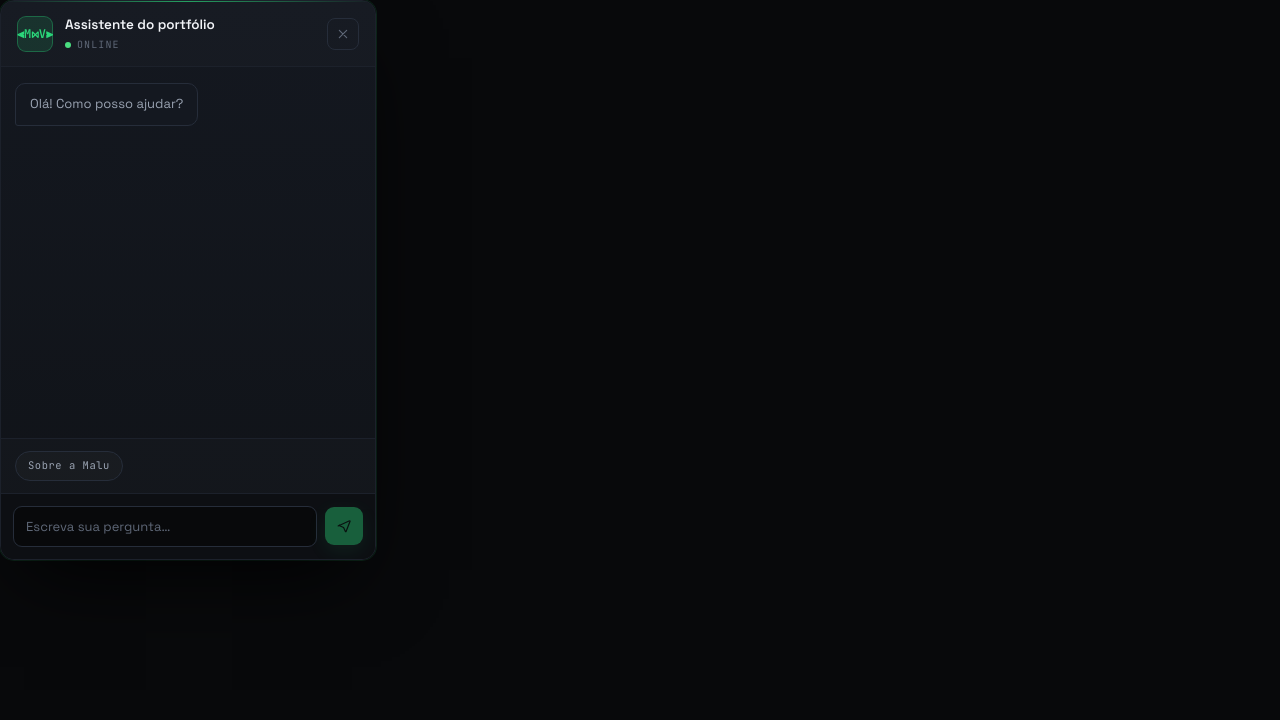
Test case: ChatWindow (componente) - unit › deve responder ao selecionar um atalho
The width and height of the screenshot is (1280, 720).
Click the button "Sobre a Malu": (69, 466) [15,451,123,481]
Wait 420 ms
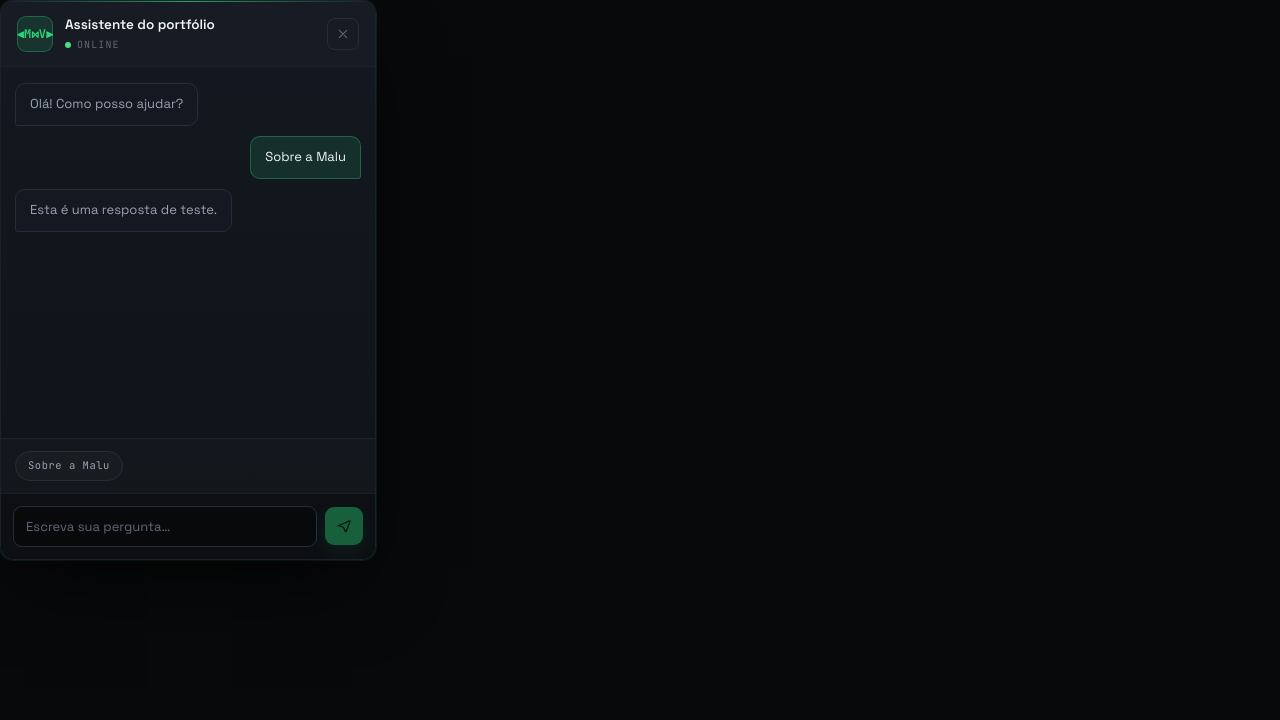
Now the text "Sobre a Malu" is shown 2 times, box [250,136,361,179]; [15,451,123,481]
Now the text "Esta é uma resposta de teste." is shown, box [15,189,232,232]
